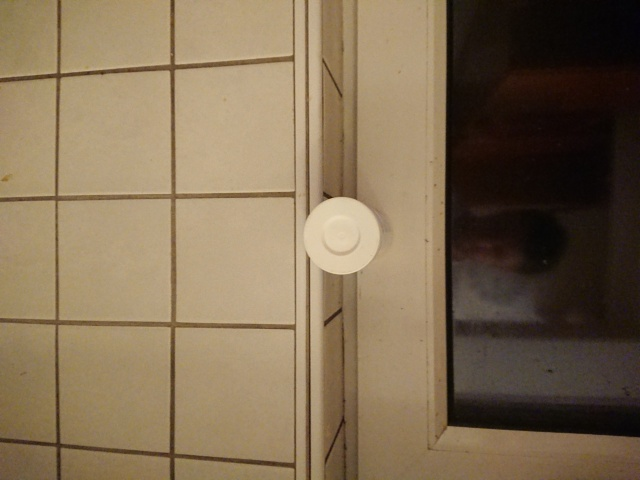Solana Pag Fine Sea Salt 250g: (300, 195, 396, 277)
